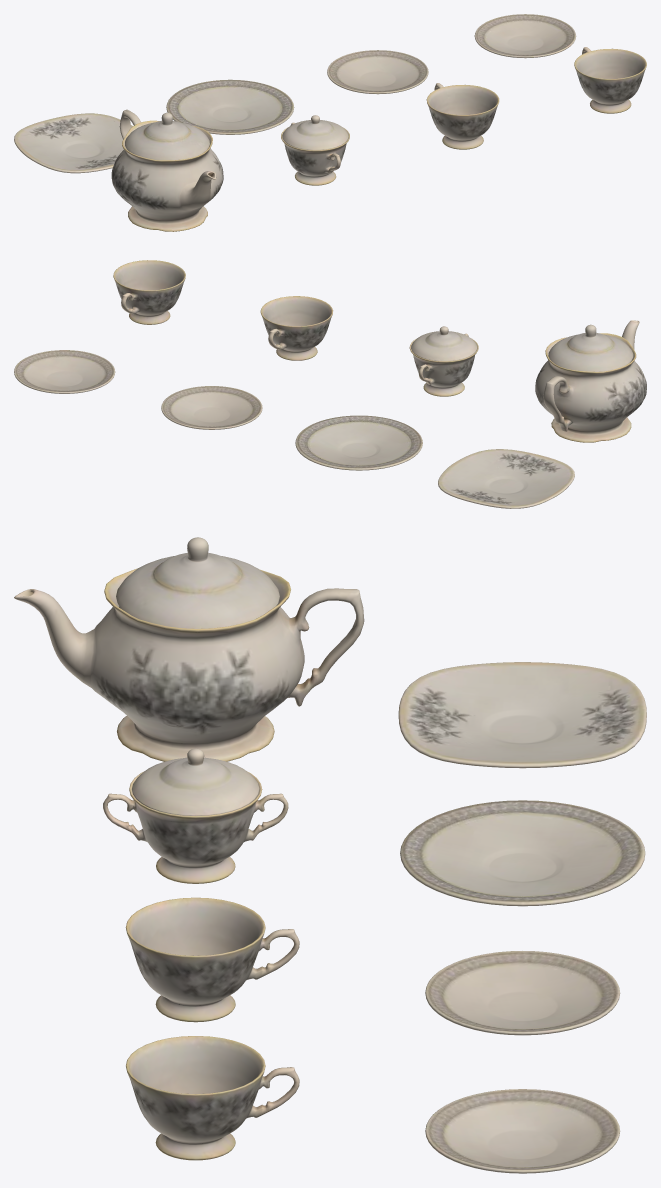
File: tea_set_01.glb
3 views of the same model, one above another, from view 1: azimuth 30°, elevation 25°; view 2: azimuth 150°, elevation 25°; view 3: azimuth 270°, elevation 25° (orthographic). The views are drawn at different scales.
Parts seen in each view (by area): view 1: tea_set_01_teapot_01, tea_set_01_plate_large_circular_03, tea_set_01_plate_large_square_01, tea_set_01_cup_small_01, tea_set_01_cup_small_02, tea_set_01_saucer_circular_03, tea_set_01_saucer_circular_04, tea_set_01_teapot_01_lid, tea_set_01_sugar_cup_01, tea_set_01_sugar_cup_01_lid; view 2: tea_set_01_teapot_01, tea_set_01_plate_large_square_01, tea_set_01_plate_large_circular_03, tea_set_01_cup_small_01, tea_set_01_cup_small_02, tea_set_01_saucer_circular_04, tea_set_01_saucer_circular_03, tea_set_01_teapot_01_lid, tea_set_01_sugar_cup_01, tea_set_01_sugar_cup_01_lid; view 3: tea_set_01_teapot_01, tea_set_01_plate_large_square_01, tea_set_01_plate_large_circular_03, tea_set_01_cup_small_01, tea_set_01_cup_small_02, tea_set_01_saucer_circular_03, tea_set_01_saucer_circular_04, tea_set_01_teapot_01_lid, tea_set_01_sugar_cup_01, tea_set_01_sugar_cup_01_lid.
Part boxes in pixels (x1,y1,x2,y2): tea_set_01_teapot_01: (111, 109, 223, 231); tea_set_01_plate_large_circular_03: (166, 79, 294, 134); tea_set_01_plate_large_square_01: (14, 113, 133, 173); tea_set_01_cup_small_01: (426, 83, 499, 149); tea_set_01_cup_small_02: (574, 47, 646, 113); tea_set_01_saucer_circular_03: (474, 14, 576, 58); tea_set_01_saucer_circular_04: (327, 50, 428, 94); tea_set_01_teapot_01_lid: (125, 112, 209, 160); tea_set_01_sugar_cup_01: (281, 122, 349, 185); tea_set_01_sugar_cup_01_lid: (282, 115, 348, 150); tea_set_01_teapot_01: (535, 320, 646, 442); tea_set_01_plate_large_square_01: (438, 449, 574, 508); tea_set_01_plate_large_circular_03: (295, 415, 422, 470); tea_set_01_cup_small_01: (260, 296, 333, 360); tea_set_01_cup_small_02: (113, 260, 185, 324); tea_set_01_saucer_circular_04: (161, 386, 262, 429); tea_set_01_saucer_circular_03: (14, 350, 115, 393); tea_set_01_teapot_01_lid: (548, 324, 633, 371); tea_set_01_sugar_cup_01: (409, 333, 478, 396); tea_set_01_sugar_cup_01_lid: (411, 326, 477, 361); tea_set_01_teapot_01: (14, 568, 364, 761); tea_set_01_plate_large_square_01: (398, 662, 646, 768); tea_set_01_plate_large_circular_03: (400, 800, 645, 906); tea_set_01_cup_small_01: (125, 897, 299, 1022); tea_set_01_cup_small_02: (126, 1036, 299, 1160); tea_set_01_saucer_circular_03: (425, 1089, 620, 1173); tea_set_01_saucer_circular_04: (425, 951, 620, 1035); tea_set_01_teapot_01_lid: (116, 537, 279, 628); tea_set_01_sugar_cup_01: (103, 771, 288, 883); tea_set_01_sugar_cup_01_lid: (131, 748, 259, 815).
Size of the model in its own units: 0.9185 by 0.165 by 0.4839.
1 material, 1 textured.
